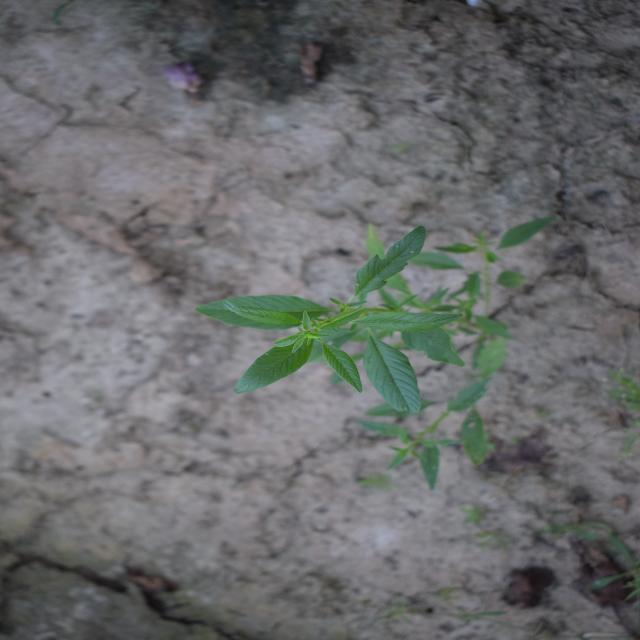Waterhemp: (190, 213, 556, 490)
